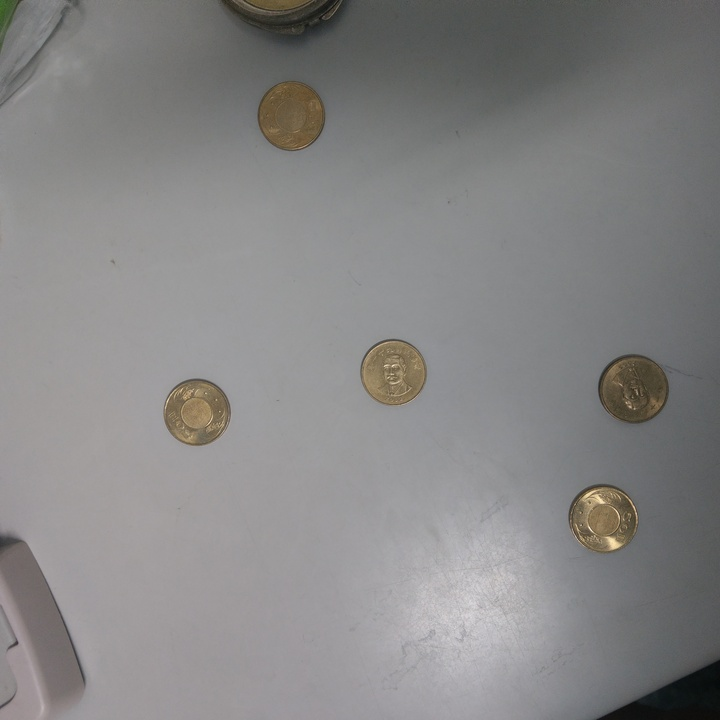50 dollar: (566, 480, 643, 556), (597, 351, 669, 428), (160, 377, 236, 449), (256, 81, 328, 155), (360, 337, 428, 409)
